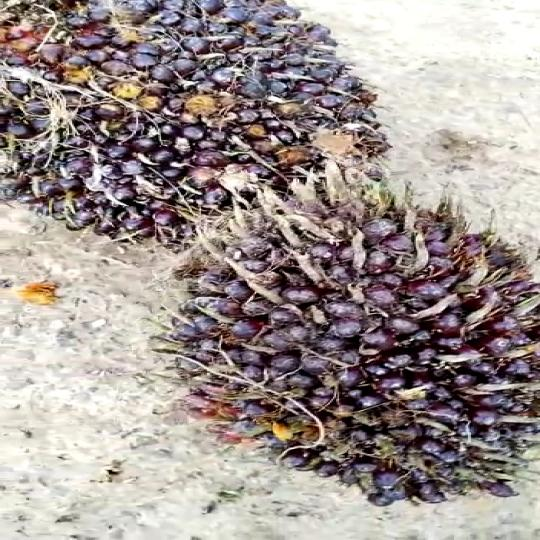kurang masak: (172, 180, 540, 507), (0, 0, 437, 243)
